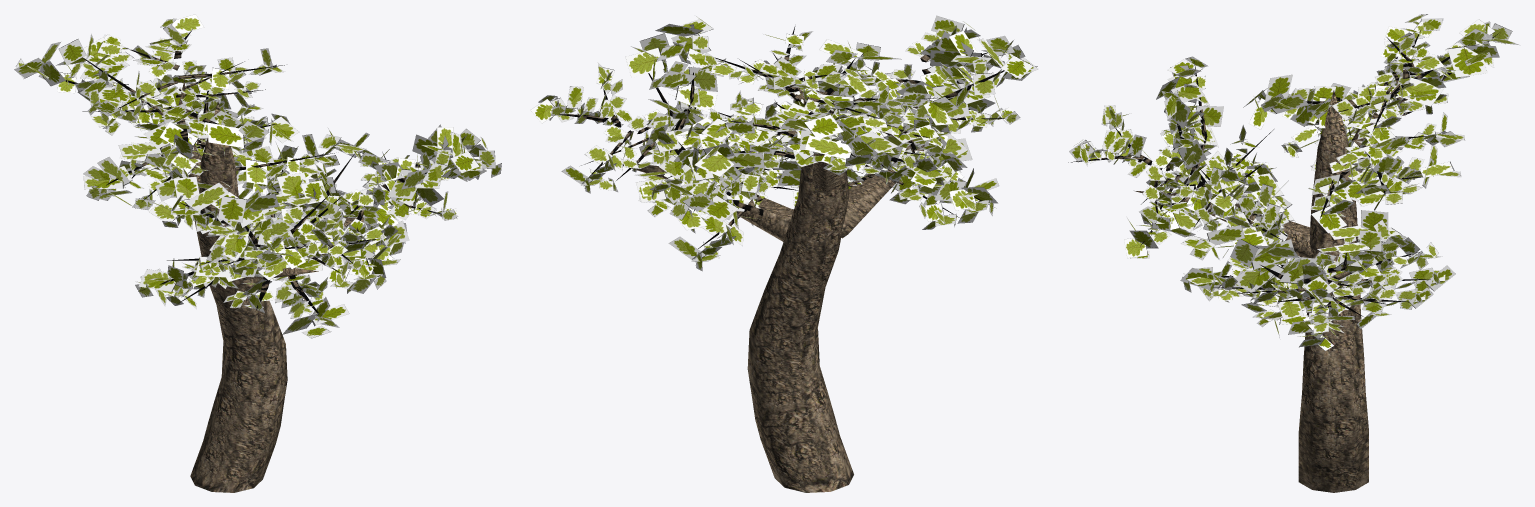
The model's file is OakTree1_LOD0.FBX.
The picture shows the model from 3 angles, left to right: view 1: azimuth 30°, elevation 25°; view 2: azimuth 150°, elevation 25°; view 3: azimuth 270°, elevation 25°; orthographic projection. The views are drawn at different scales.
Parts seen in each view (by area): view 1: Leaf_672, Cylinder073; view 2: Leaf_672, Cylinder073, Galaz2, Galaz3, Galaz1; view 3: Leaf_672, Cylinder073, Galaz2.
Boxes of the visible parts, x1,y1,x2,y2 form: Leaf_672: [14, 14, 501, 338]; Cylinder073: [190, 101, 287, 492]; Leaf_672: [530, 15, 1038, 271]; Cylinder073: [747, 64, 853, 492]; Galaz2: [841, 144, 924, 238]; Galaz3: [623, 164, 793, 241]; Galaz1: [798, 87, 841, 195]; Leaf_672: [1069, 14, 1518, 350]; Cylinder073: [1298, 90, 1368, 492]; Galaz2: [1135, 191, 1313, 257].
Bounding box in the file's own units: 574 × 612 × 571.
Materials: 3 (3 with a texture image).
